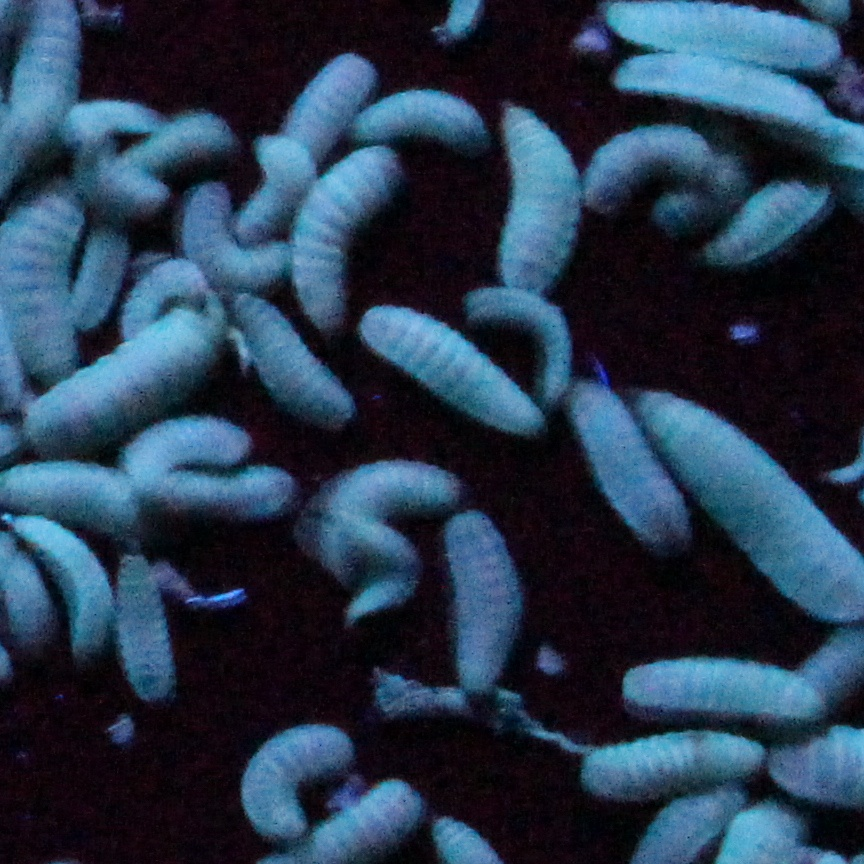larve: (27, 306, 227, 446), (554, 371, 685, 555), (362, 308, 543, 433), (609, 46, 845, 135), (7, 511, 120, 682), (291, 148, 396, 330), (294, 455, 453, 568), (229, 291, 356, 431), (438, 510, 529, 697), (614, 650, 834, 722), (496, 100, 576, 297), (694, 155, 838, 260), (56, 93, 165, 224), (463, 279, 576, 400), (271, 57, 383, 175), (571, 726, 762, 795), (105, 546, 189, 702), (340, 80, 503, 159), (182, 182, 293, 290), (338, 510, 433, 635), (245, 724, 345, 842), (580, 119, 711, 208), (649, 142, 756, 239), (233, 130, 314, 244), (129, 104, 236, 180), (138, 417, 245, 480), (165, 464, 287, 519), (67, 222, 133, 320), (122, 257, 209, 331)
